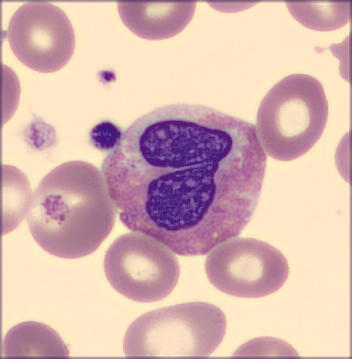EO: (101, 107, 270, 255)
PLT: (20, 114, 60, 154), (89, 120, 121, 150), (41, 195, 73, 225), (96, 69, 120, 87)
RBC: (25, 159, 114, 262), (254, 73, 329, 160), (121, 301, 229, 359), (3, 1, 79, 73), (104, 231, 179, 303), (204, 238, 290, 299), (115, 1, 196, 41), (5, 323, 71, 359), (1, 164, 33, 234), (284, 1, 351, 33), (230, 334, 299, 358), (1, 61, 20, 127)
